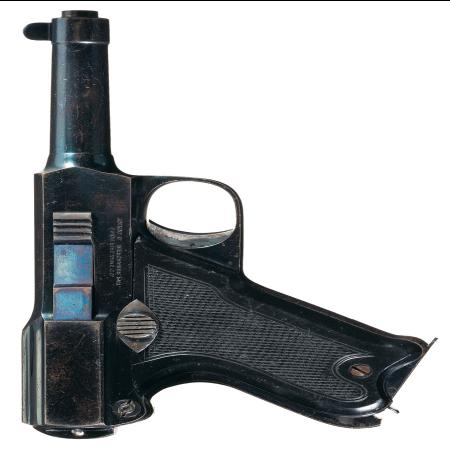Pistol: (22, 12, 440, 436)
